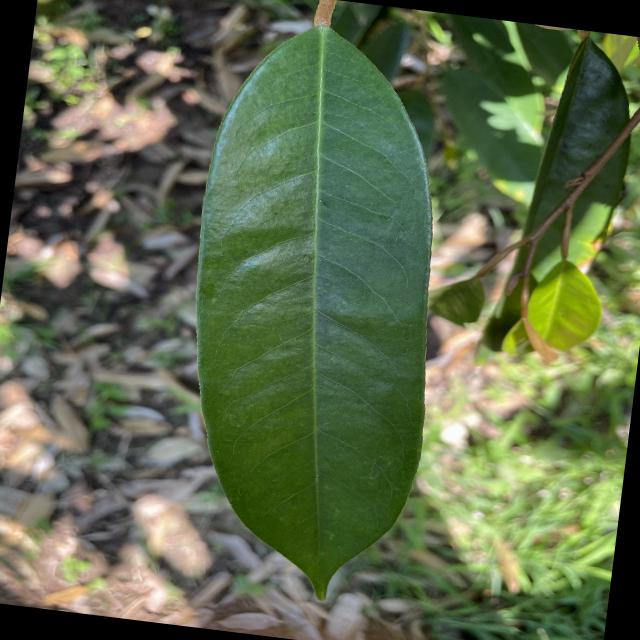No Disease: (149, 2, 481, 616)
